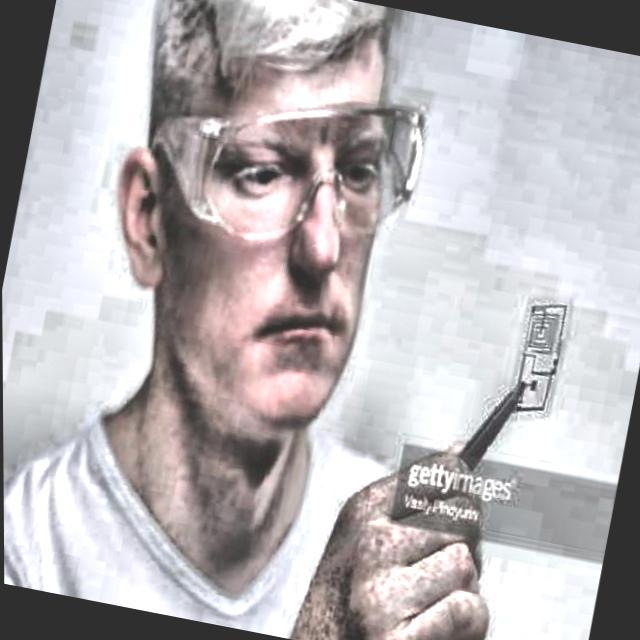goggles_on: (118, 98, 435, 255)
